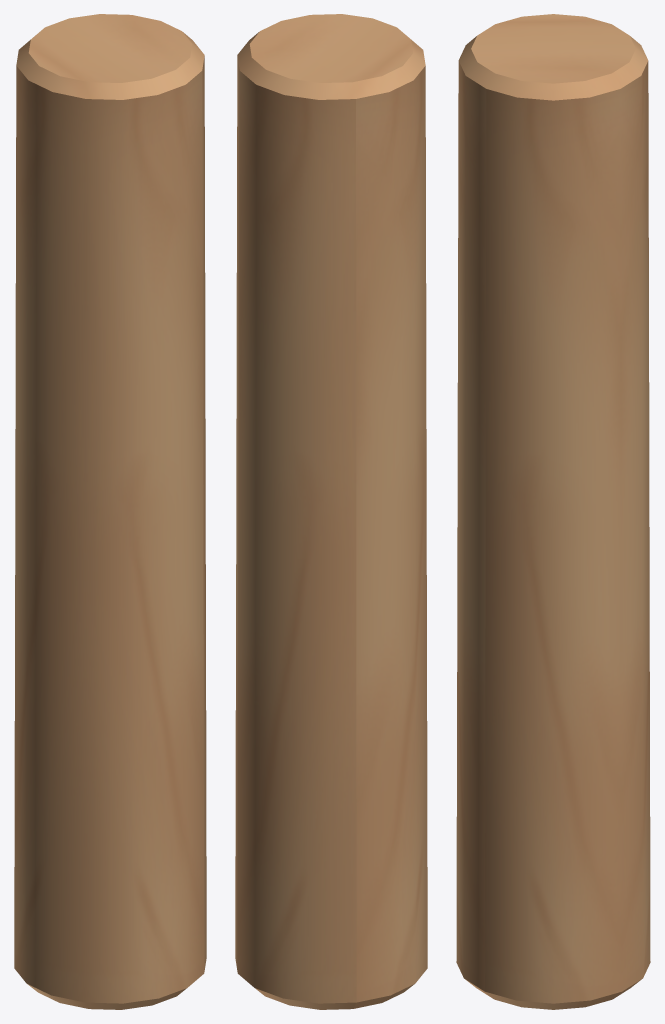
Rendered from SingularPost.fbx.
The picture shows the model from 3 angles, left to right: view 1: azimuth 30°, elevation 25°; view 2: azimuth 150°, elevation 25°; view 3: azimuth 270°, elevation 25°; orthographic projection.
Parts seen in each view (by area): view 1: Cylinder; view 2: Cylinder; view 3: Cylinder.
Part boxes in pixels (x1,y1,x2,y2): Cylinder: (14, 14, 206, 1009); Cylinder: (235, 14, 427, 1009); Cylinder: (456, 14, 650, 1009).
Bounding box in the file's own units: 16.61 × 87.44 × 16.61.
